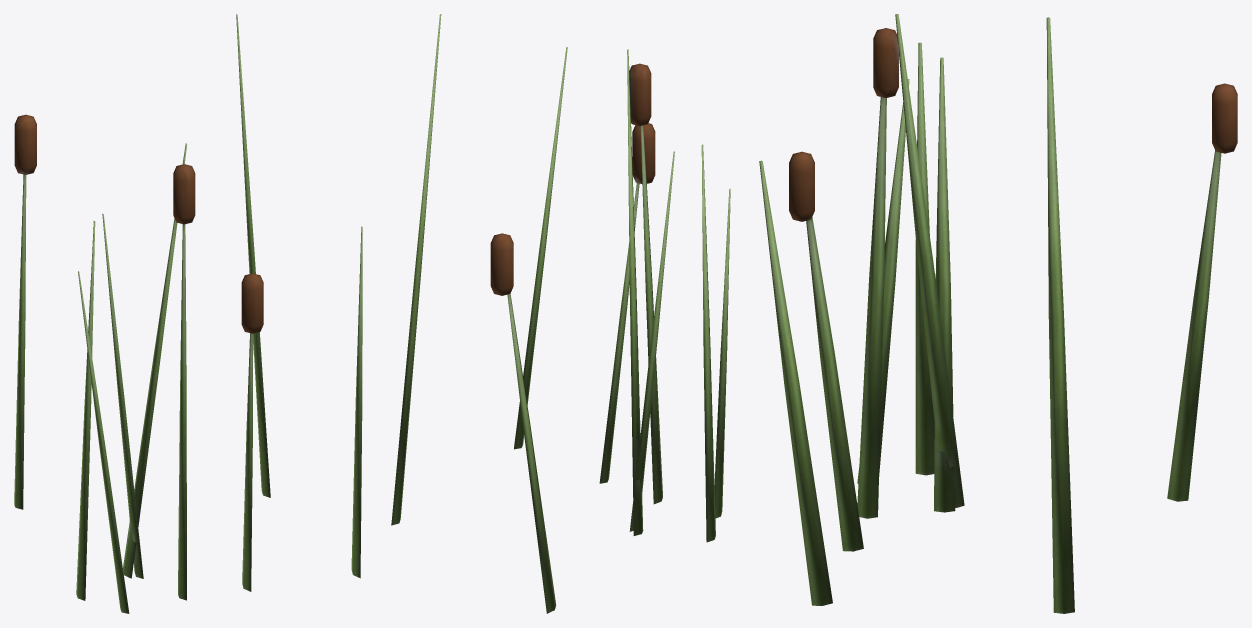
The model's file is reeds.glb.
3 renders of one model, left to right at view 1: azimuth 30°, elevation 25°; view 2: azimuth 150°, elevation 25°; view 3: azimuth 270°, elevation 25°, orthographic. The views are drawn at different scales.
Parts seen in each view (by area): view 1: reeds; view 2: reeds; view 3: reeds.
Part boxes in pixels (x1,y1,x2,y2): reeds: (14, 14, 362, 613); reeds: (391, 14, 730, 613); reeds: (759, 14, 1237, 613).
Size of the model in its own units: 0.8181 by 1.5 by 1.13.
Materials: 1 (1 with a texture image).
